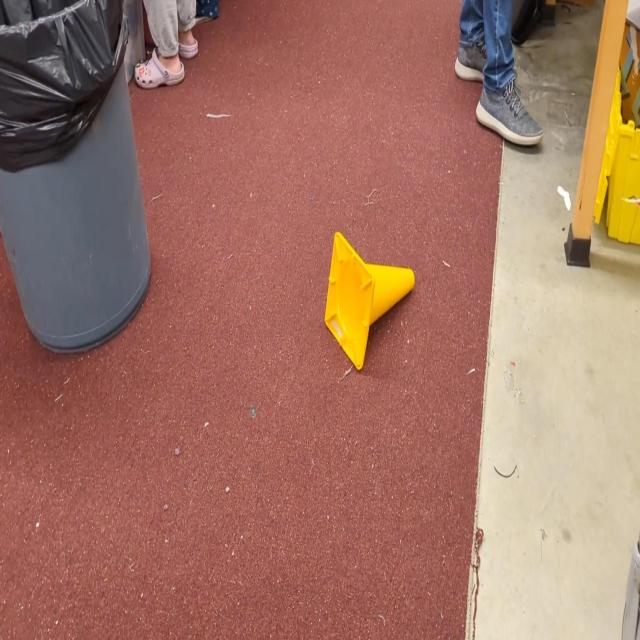frc_cone: (324, 231, 415, 372)
